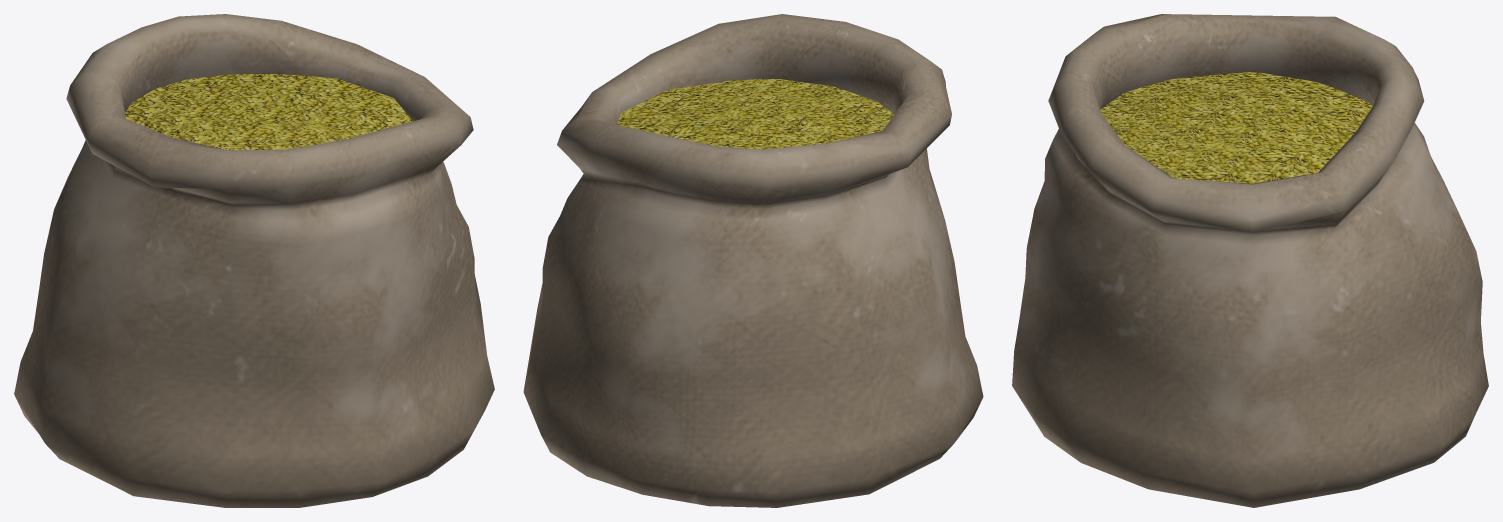
The model's file is grain_sack.glb.
3 renders of one model, left to right at view 1: azimuth 30°, elevation 25°; view 2: azimuth 150°, elevation 25°; view 3: azimuth 270°, elevation 25°, orthographic. The views are drawn at different scales.
Parts seen in each view (by area): view 1: Sack1_Sack1_0; view 2: Sack1_Sack1_0; view 3: Sack1_Sack1_0.
Boxes of the visible parts, x1,y1,x2,y2 form: Sack1_Sack1_0: [14, 14, 494, 507]; Sack1_Sack1_0: [523, 14, 983, 507]; Sack1_Sack1_0: [1012, 14, 1488, 507].
Bounding box in the file's own units: 1.36 × 1.03 × 1.32.
2 materials, 2 textured.
